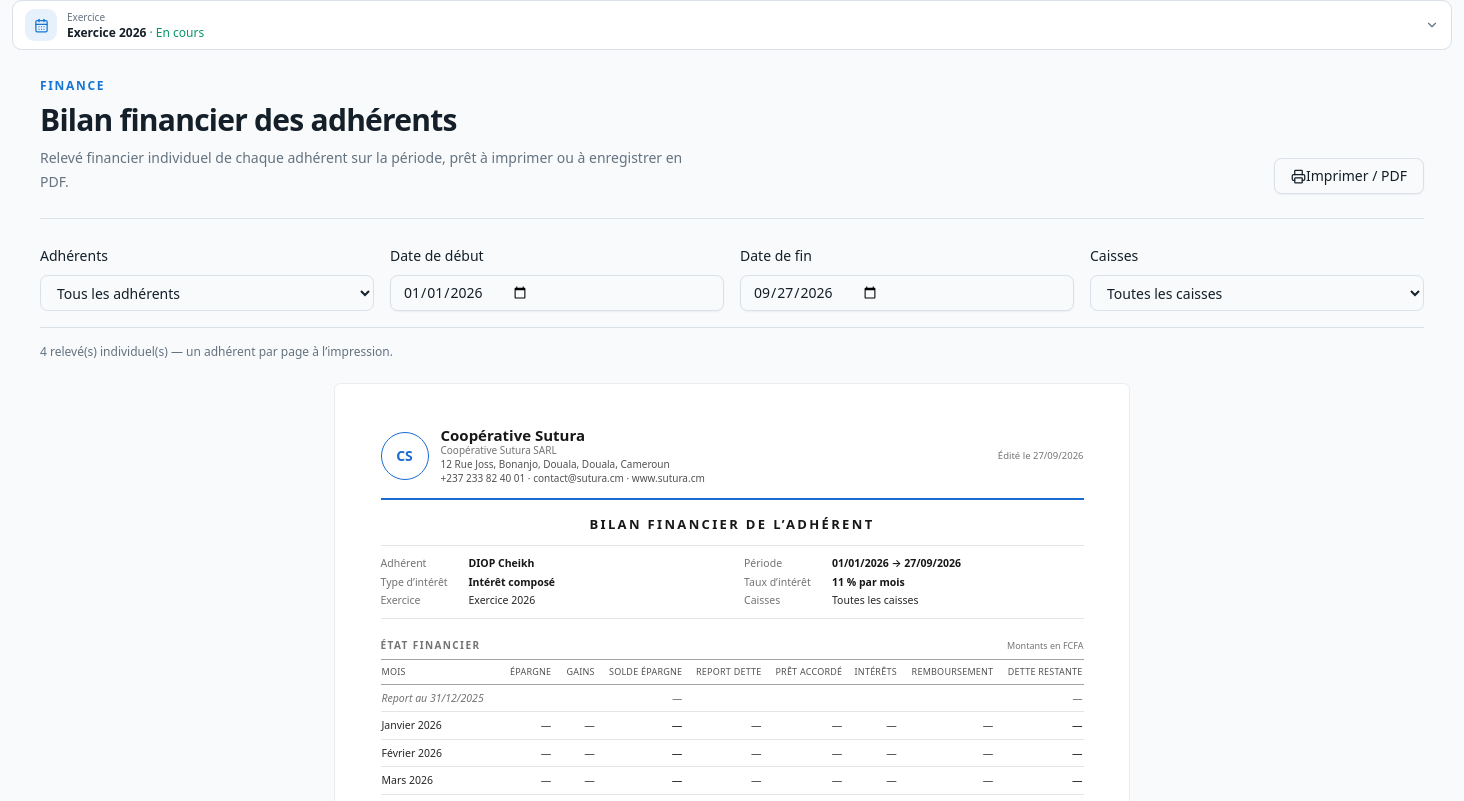
Bilan financier de l’adhérent — relevés › adhérent emprunteur : type et taux d’intérêt réels dans l’en-tête, intérêts tracés, prêts en cours, situation nette
The width and height of the screenshot is (1464, 801).
Check: the date field labelled "Date de début" holds "2026-01-01", box x1=390 y1=275 x2=724 y2=311
Check: the date field labelled "Date de fin" holds "2026-09-27", box x1=740 y1=275 x2=1074 y2=311
Select "Adhérents sélectionnés" in the dropdown labelled "Adhérents" at [207, 293], box x1=40 y1=275 x2=374 y2=311
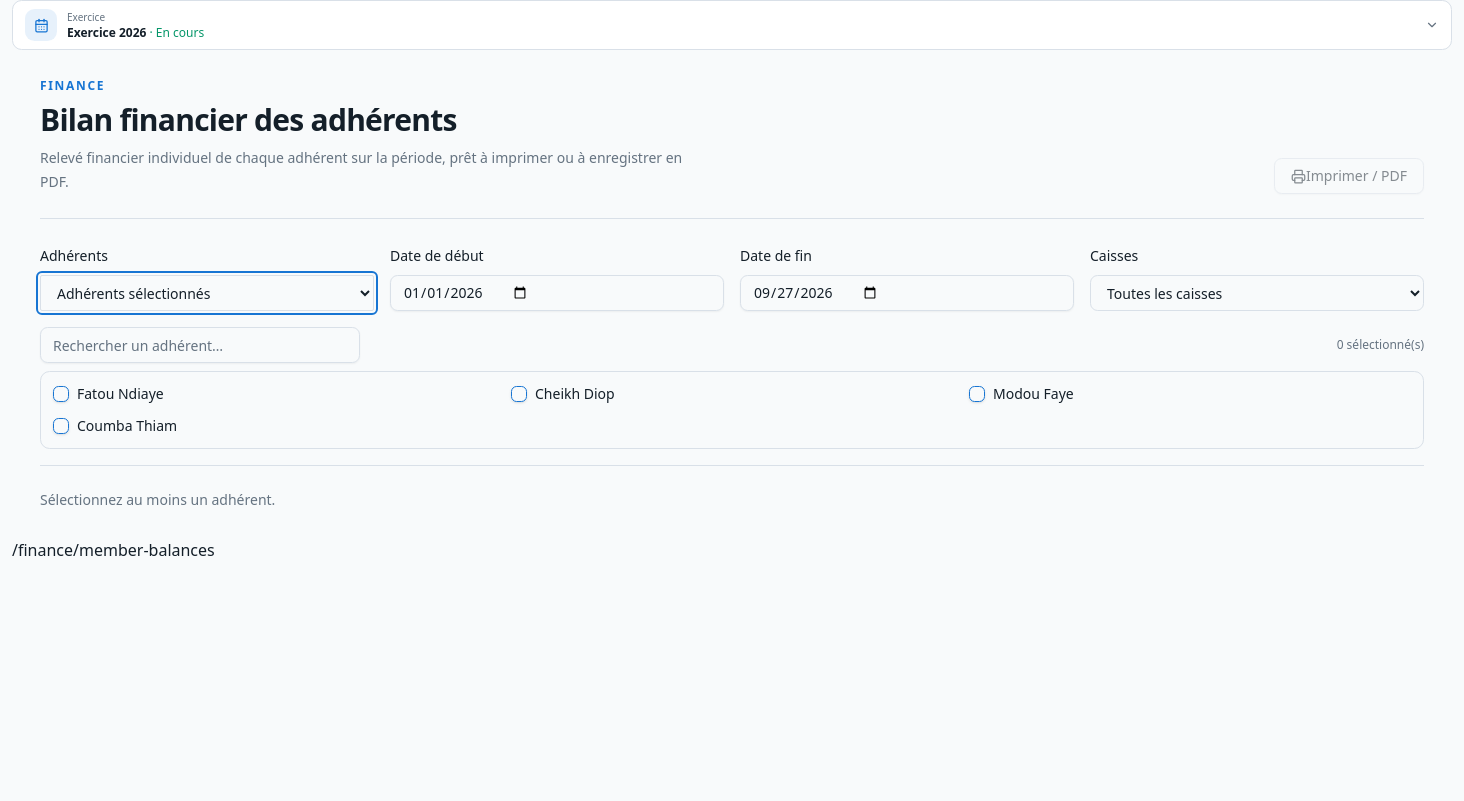
Click the checkbox named "Fatou Ndiaye" at [61, 394], box x1=53 y1=386 x2=69 y2=402
(page scrolled)
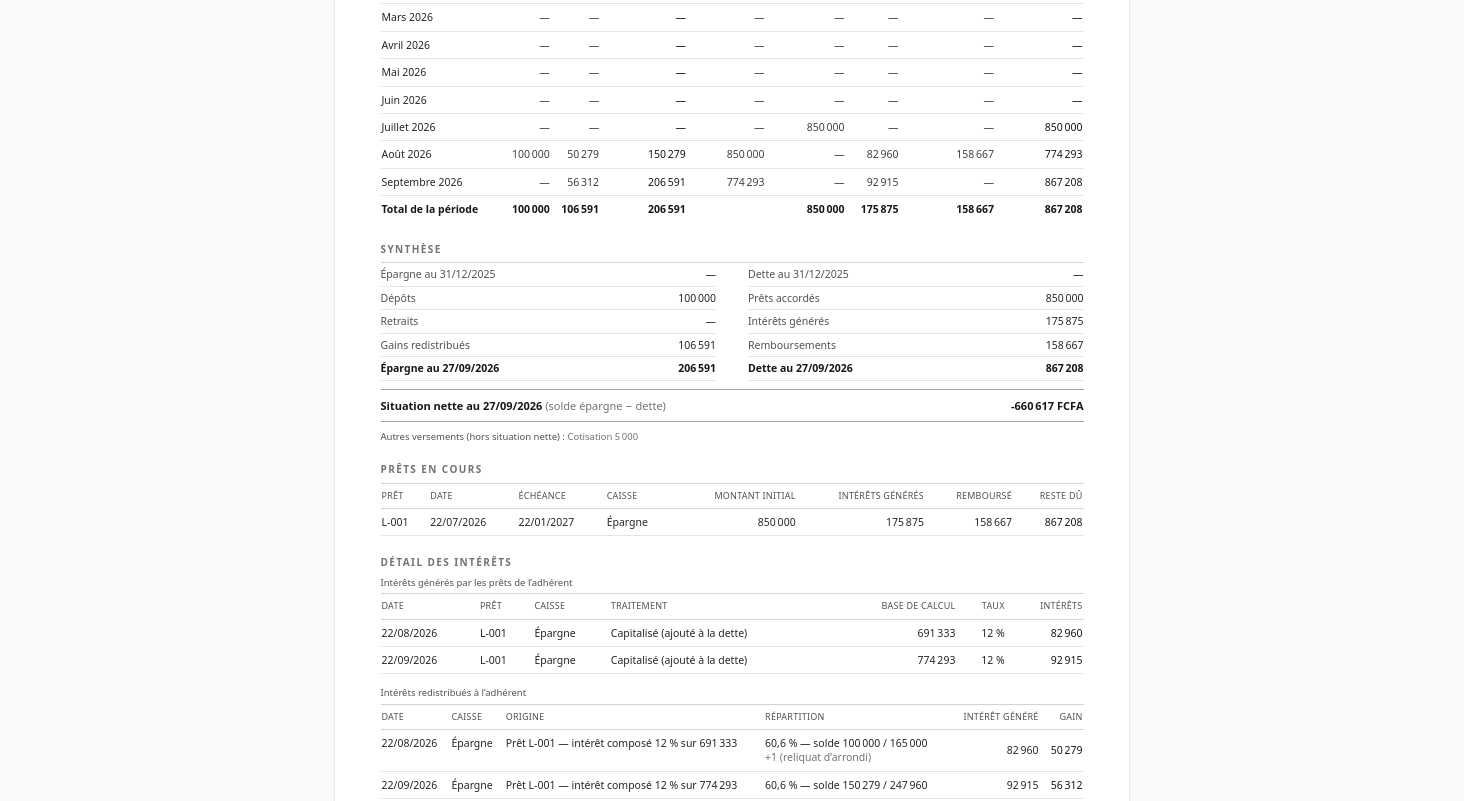
Check: the table with test id "mb-loan-interest" shows "L-001", box x1=480 y1=626 x2=507 y2=640
Check: the element with test id "mb-current-loans" shows "L-001", box x1=382 y1=515 x2=408 y2=529
Check: the element with test id "mb-net-position" shows "Situation nette au 27/09/2026", box x1=380 y1=398 x2=542 y2=413
